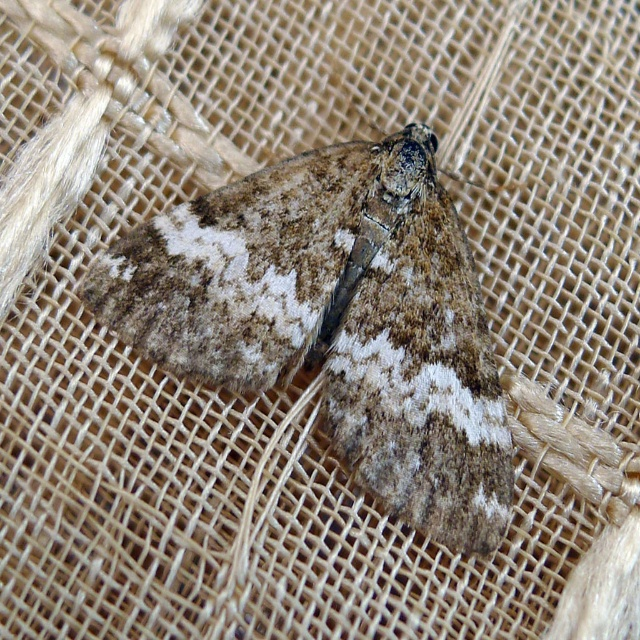Moths and butterflies: (76, 87, 533, 561)
